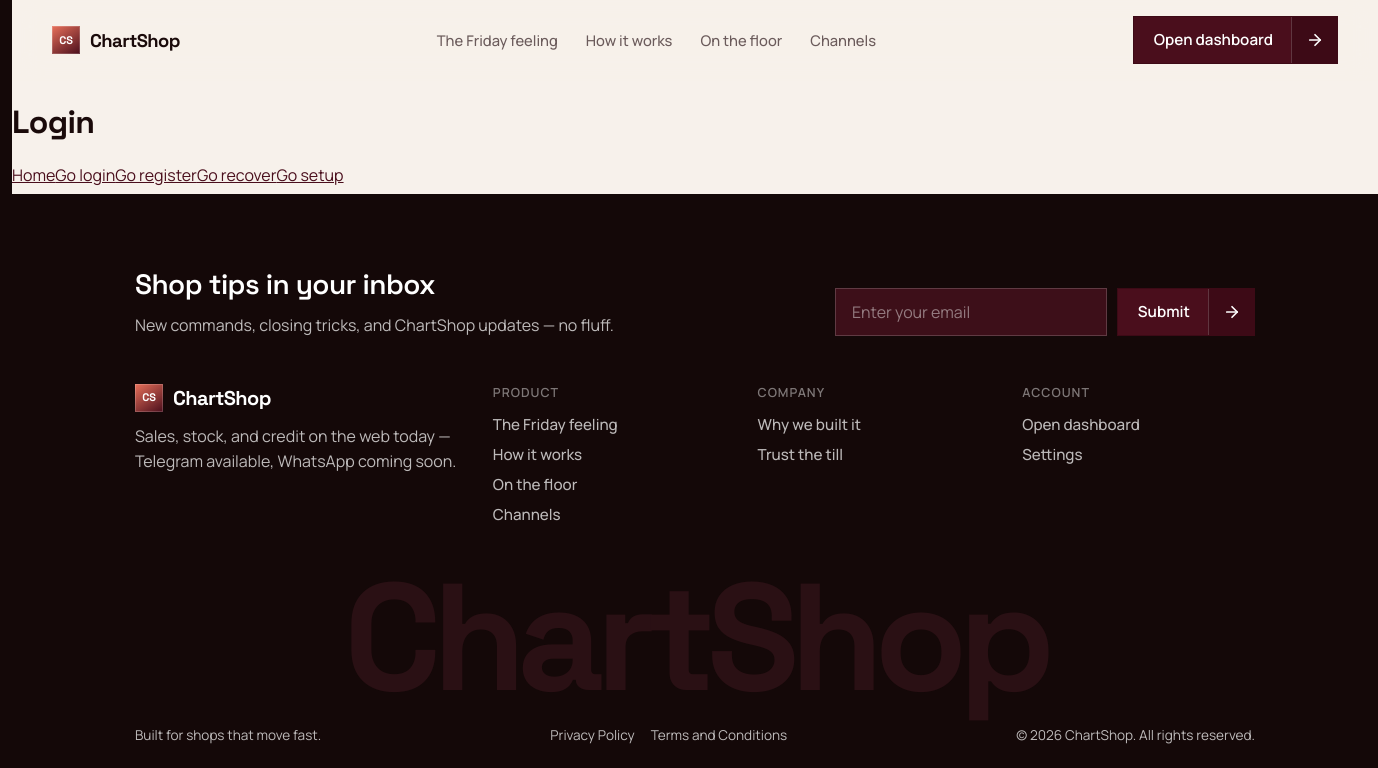
Test: scroll behaviour › SiteLayout › resets window scroll when navigating /login → next marketing route
Click the link "Go register" at (156, 175), box [115,164,197,186]
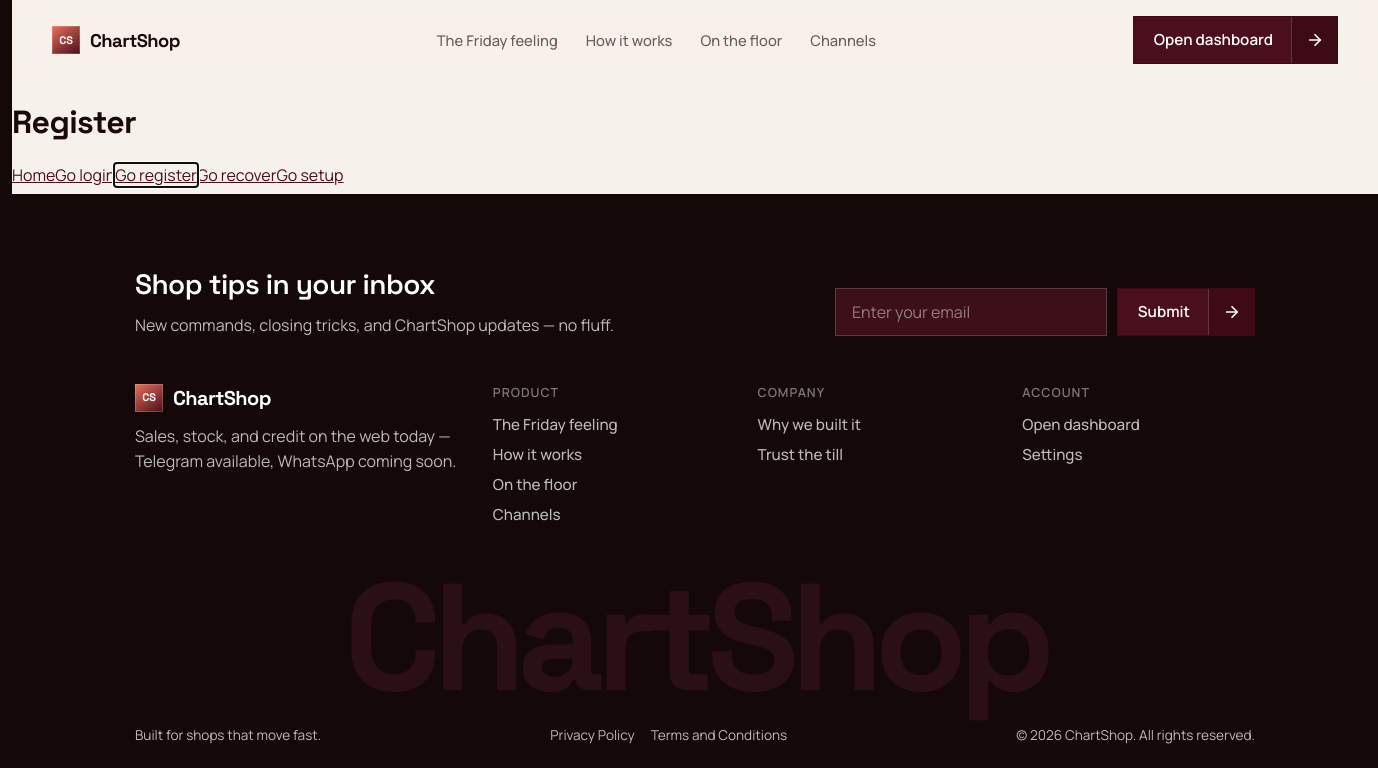
Now the heading "Register" is shown, box [12,102,136,142]
